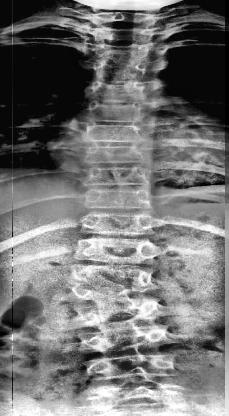Vertebrae: (78, 268, 156, 300), (88, 326, 166, 354), (81, 234, 159, 262), (77, 300, 159, 324), (93, 356, 180, 378), (82, 210, 154, 234), (92, 163, 152, 187), (86, 189, 148, 211), (87, 141, 149, 163), (86, 122, 144, 144), (95, 79, 149, 101), (95, 42, 149, 62), (99, 26, 154, 44), (89, 104, 150, 120), (100, 62, 148, 82)
